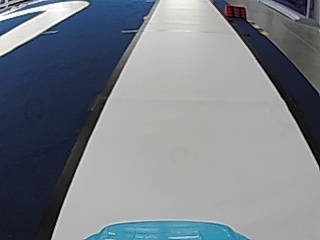bomb: (224, 4, 248, 18)
